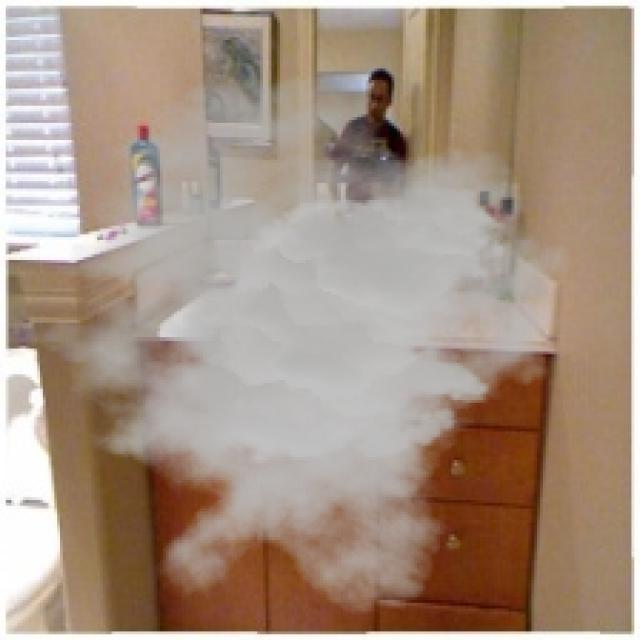Smoke: (6, 74, 572, 617)
